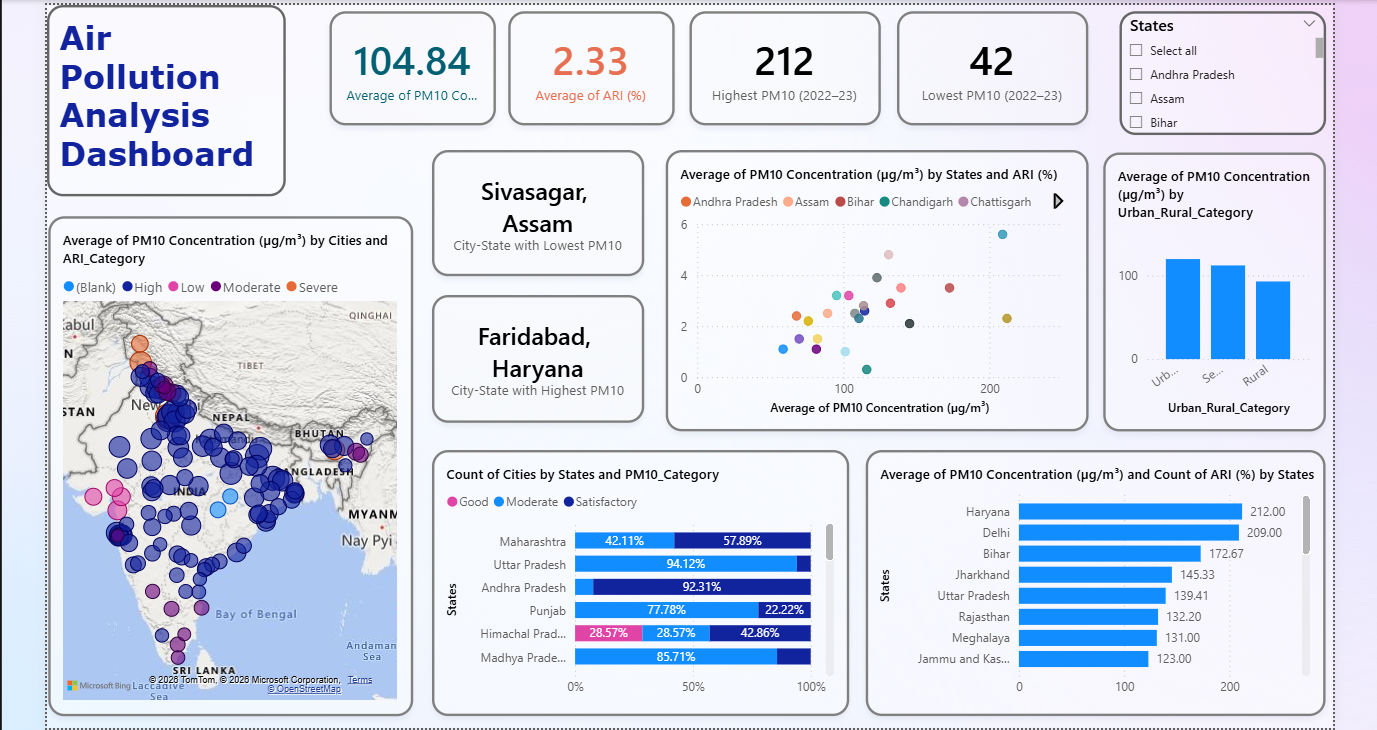

What the dashboard file says about the page in this screenshot:
{"tool":"powerbi","page":{"name":"Page 1","canvas":[1280,720],"ordinal":0},"visuals":[{"type":"card","fields":{"Values":["Avg(ARI.ARI (%))"]},"box":[459,6.2,165.4,113.2],"z":0},{"type":"card","fields":{"Values":["Max(PM10 Citywise.PM10 Concentration (µg/m³))"]},"box":[639.4,6.2,190.3,113.2],"z":1000},{"type":"card","fields":{"Values":["Avg(PM10 Citywise.PM10 Concentration (µg/m³))"]},"box":[281.1,6.2,165.4,113.2],"z":2000},{"type":"card","fields":{"Values":["ARI.City with Highest PM10"]},"box":[383.1,288.6,211.5,126.9],"z":3000},{"type":"card","fields":{"Values":["Min(PM10 Citywise.PM10 Concentration (µg/m³))"]},"box":[845.9,6.2,190.3,113.2],"z":4000},{"type":"card","fields":{"Values":["ARI.City with Lowest PM10"]},"box":[383.1,144.3,211.5,125.6],"z":5000},{"type":"clusteredBarChart","fields":{"Category":["PM10 Citywise.States"],"Y":["Avg(PM10 Citywise.PM10 Concentration (µg/m³))"]},"box":[814.8,442.8,457.8,265],"z":6000},{"type":"map","fields":{"Category":["PM10 Citywise.Cities"],"Size":["Avg(PM10 Citywise.PM10 Concentration (µg/m³))"],"Series":["ARI.ARI_Category"]},"box":[1.2,210.2,363.2,497.6],"z":7000},{"type":"scatterChart","fields":{"X":["Avg(PM10 Citywise.PM10 Concentration (µg/m³))"],"Y":["ARI.ARI (%)"],"Series":["PM10 Citywise.States"]},"box":[615.8,144.3,420.5,279.9],"z":8000},{"type":"clusteredColumnChart","fields":{"Category":["PM10 Citywise.UrbanRural"],"Y":["Avg(PM10 Citywise.PM10 Concentration (µg/m³))"]},"box":[1051.1,146.8,221.4,277.4],"z":9000},{"type":"hundredPercentStackedBarChart","fields":{"Category":["PM10 Citywise.States"],"Y":["CountNonNull(PM10 Citywise.Cities)"],"Series":["PM10 Citywise.PM10_Category"]},"box":[383.1,442.8,415.5,265],"z":10000},{"type":"slicer","fields":{"Values":["PM10 Citywise.States"]},"box":[1067.3,6.2,205.3,123.2],"z":11000},{"type":"textbox","box":[0,0,237.6,190.3],"z":12000}]}

Visuals, with their boxes in screenshot pixels (x1, y1, x2, y2):
card - Avg(ARI.ARI (%)): (left=503, top=10, right=669, bottom=123)
card - Max(PM10 Citywise.PM10 Concentration (µg/m³)): (left=684, top=10, right=874, bottom=123)
card - Avg(PM10 Citywise.PM10 Concentration (µg/m³)): (left=325, top=10, right=490, bottom=123)
card - ARI.City with Highest PM10: (left=427, top=293, right=639, bottom=420)
card - Min(PM10 Citywise.PM10 Concentration (µg/m³)): (left=891, top=10, right=1081, bottom=123)
card - ARI.City with Lowest PM10: (left=427, top=148, right=639, bottom=274)
clusteredBarChart - PM10 Citywise.States x Avg(PM10 Citywise.PM10 Concentration (µg/m³)): (left=859, top=447, right=1318, bottom=713)
map - PM10 Citywise.Cities x Avg(PM10 Citywise.PM10 Concentration (µg/m³)): (left=44, top=214, right=408, bottom=713)
scatterChart - Avg(PM10 Citywise.PM10 Concentration (µg/m³)) x ARI.ARI (%): (left=660, top=148, right=1081, bottom=429)
clusteredColumnChart - PM10 Citywise.UrbanRural x Avg(PM10 Citywise.PM10 Concentration (µg/m³)): (left=1096, top=151, right=1318, bottom=429)
hundredPercentStackedBarChart - PM10 Citywise.States x CountNonNull(PM10 Citywise.Cities): (left=427, top=447, right=843, bottom=713)
slicer - PM10 Citywise.States: (left=1112, top=10, right=1318, bottom=133)
textbox: (left=43, top=4, right=281, bottom=194)
